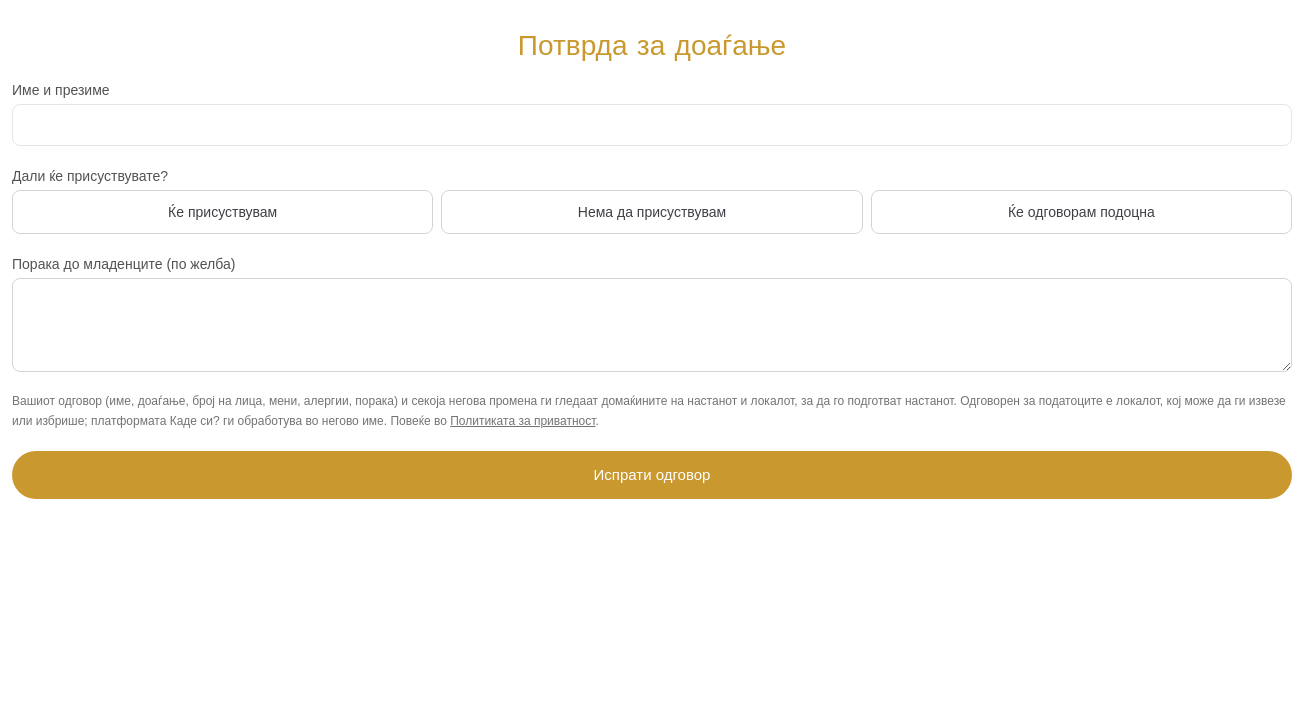
it: RsvpForm (A2-A5, A18) › submits a yes with party size, children, allergies and comment
Type "Мила Милова" into the field labelled "Име и презиме" at point(652, 125), box [12,104,1292,146]
Click the button "Ќе присуствувам" at point(223, 212), box [12,190,433,234]
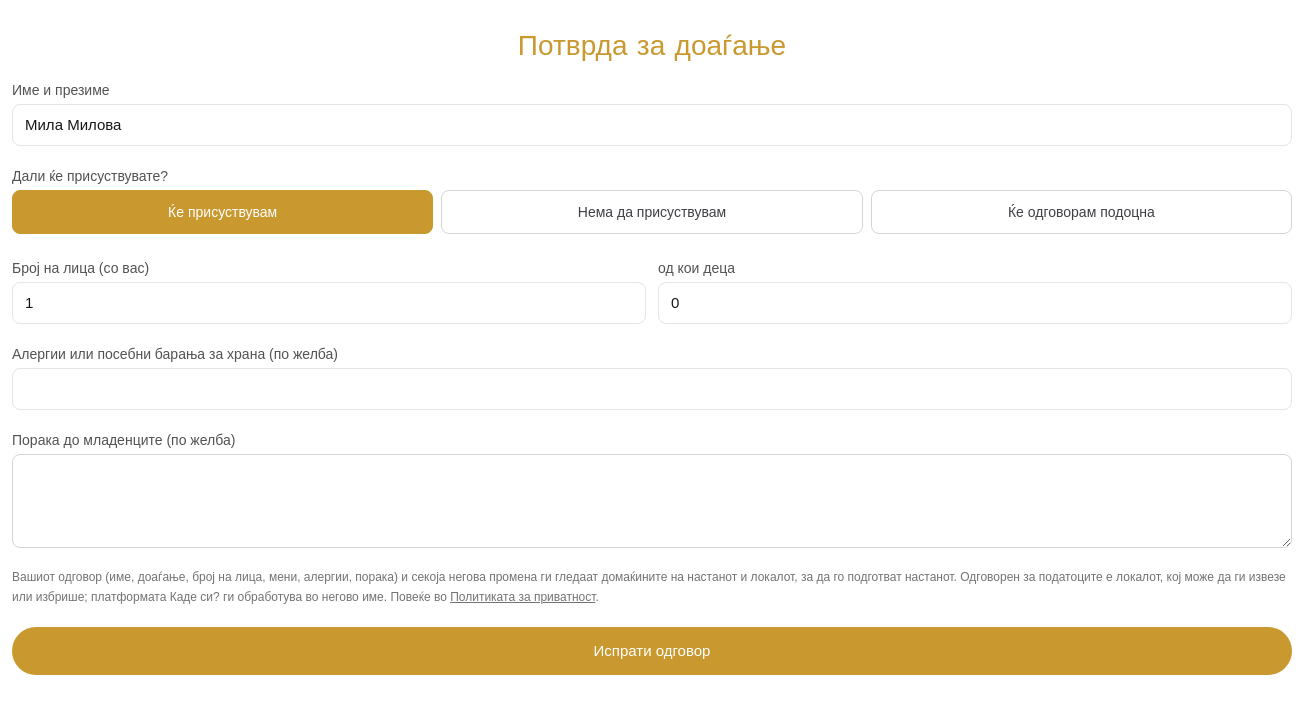
Replace the text in the number field labelled "Број на лица (со вас)" with "3" at point(329, 303), box [12,282,646,324]
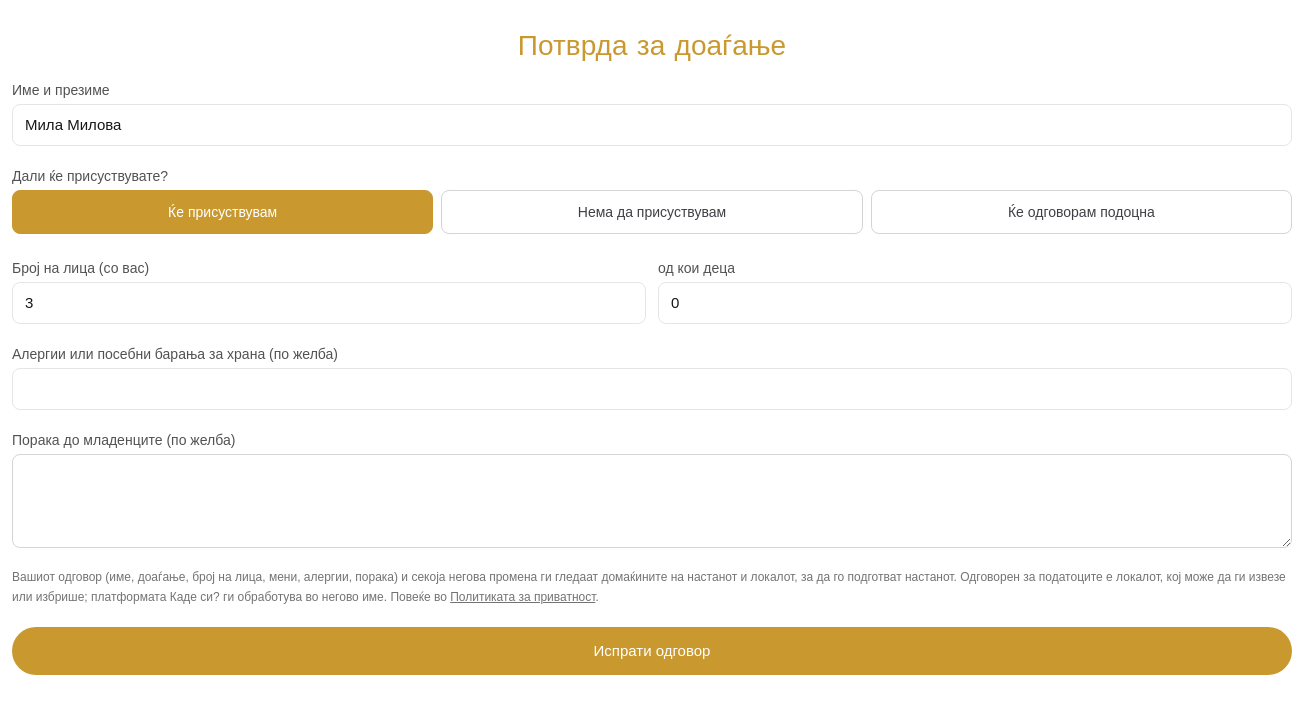
Replace the text in the number field labelled "од кои деца" with "1" at point(975, 303), box [658,282,1292,324]
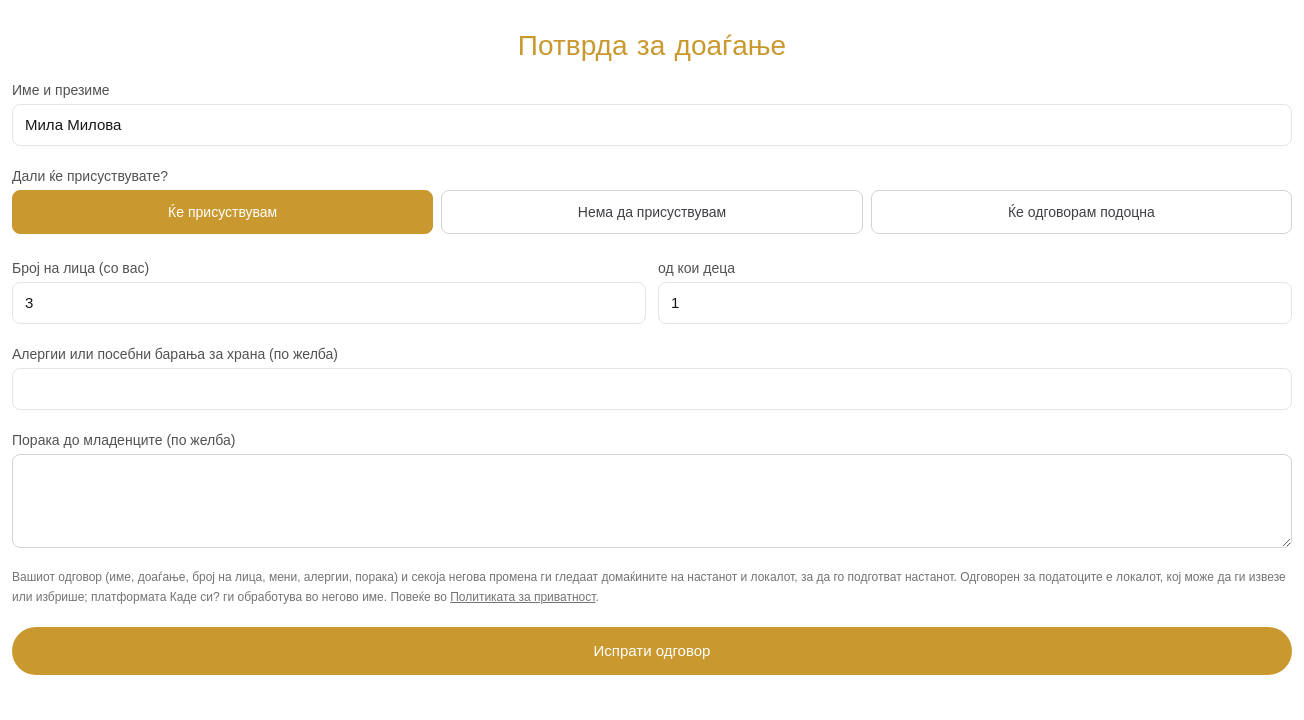
Type "ореви" into the field labelled "Алергии или посебни барања за храна (по желба)" at point(652, 389), box [12,368,1292,410]
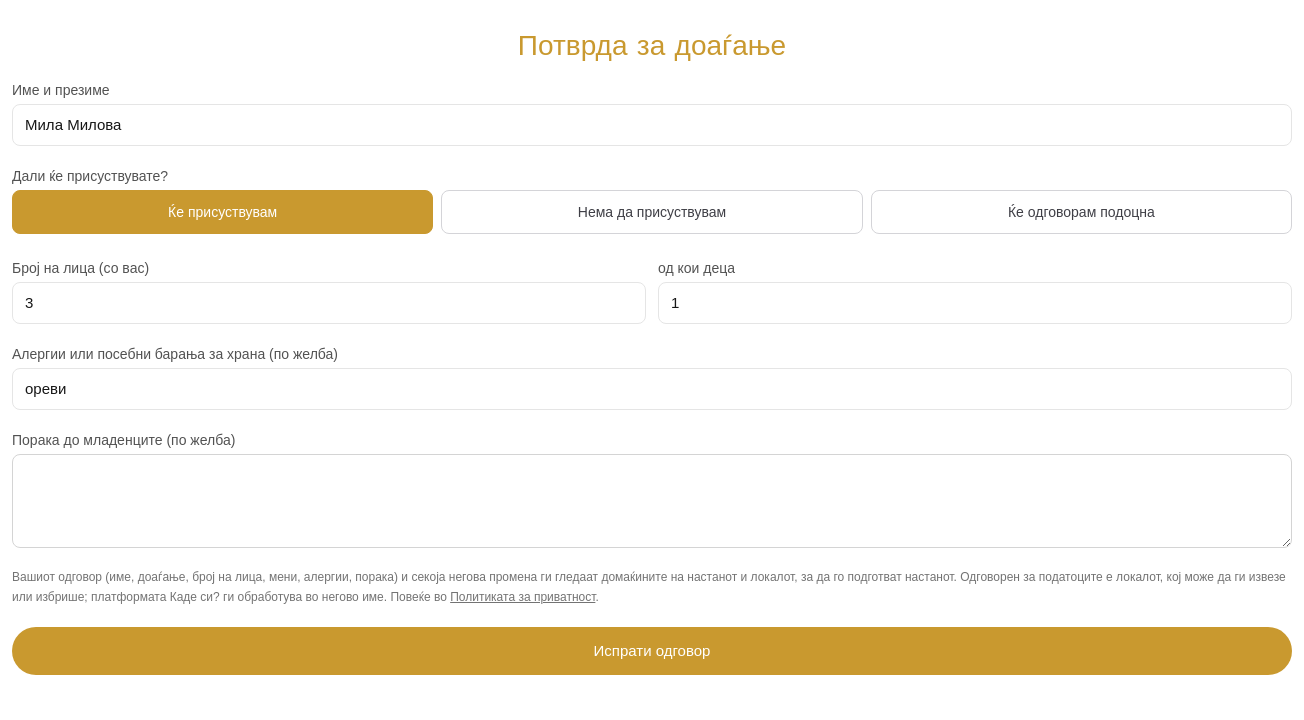
Type "Честито!" into the text box labelled "Порака до младенците (по желба)" at point(652, 501), box [12,454,1292,548]
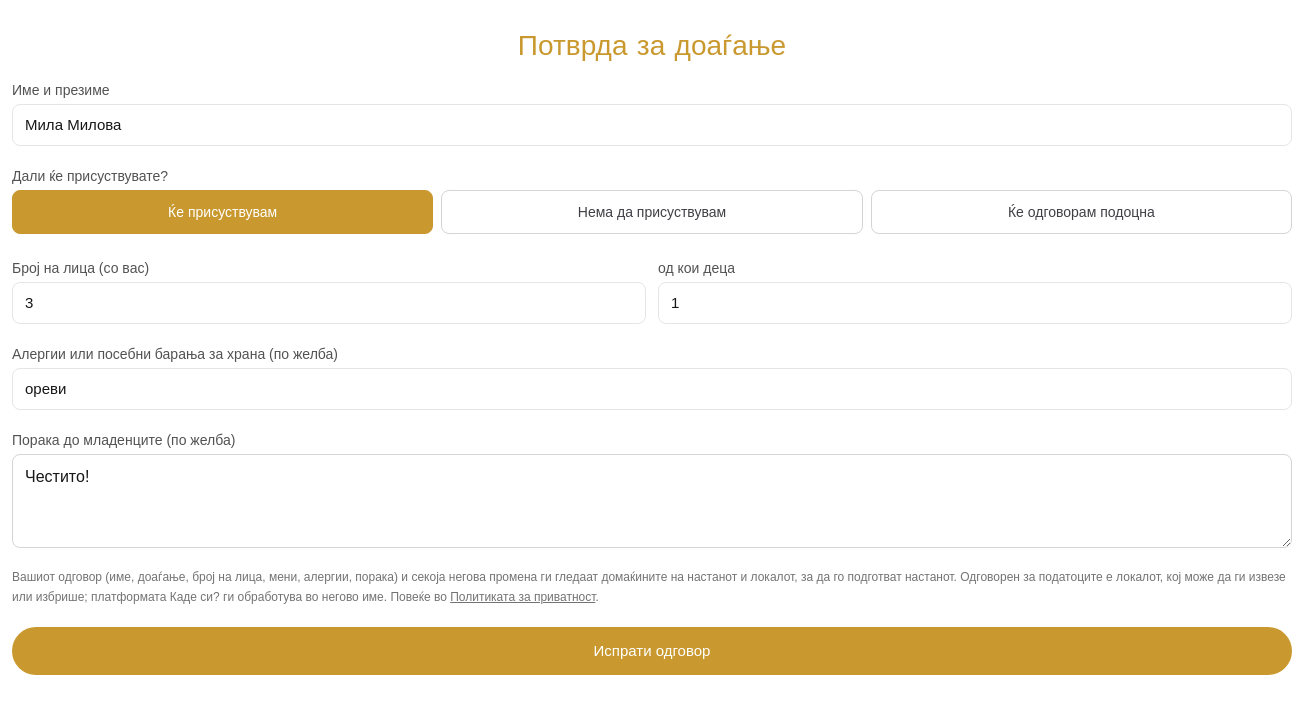
Click the button "Испрати одговор" at point(652, 651), box [12,627,1292,675]
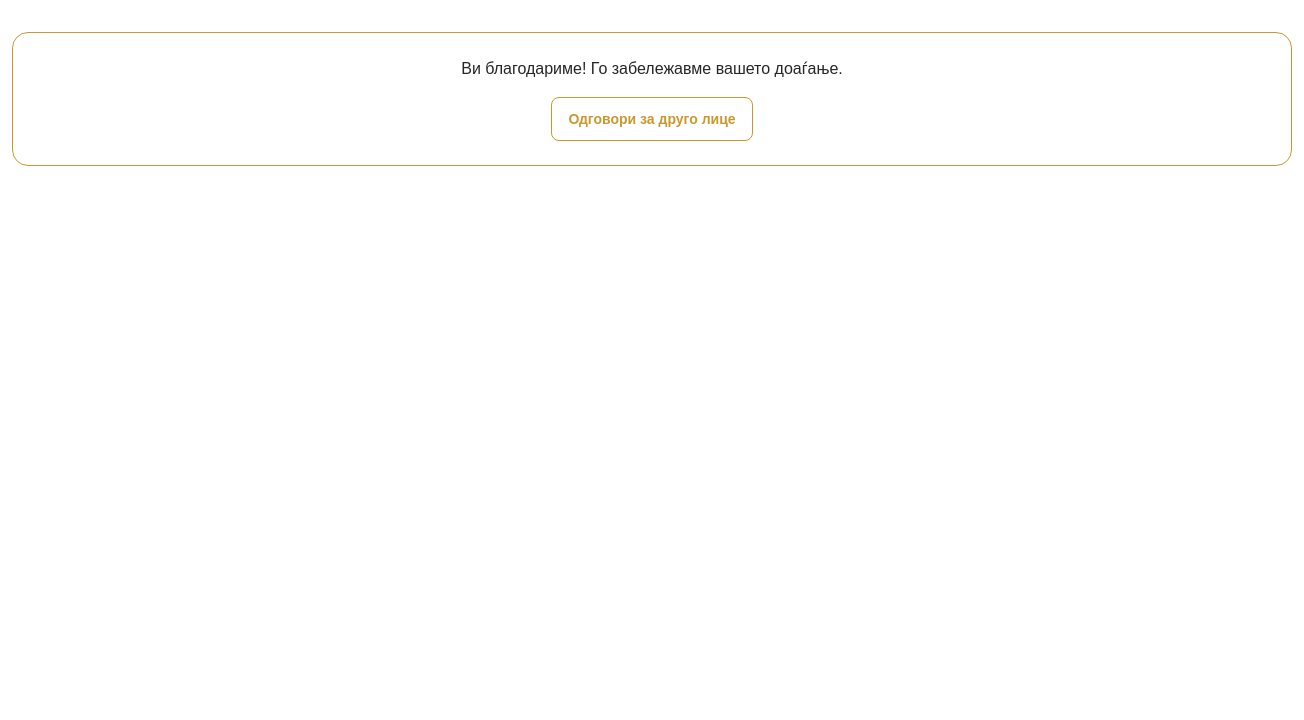
Result: the text "Ви благодариме! Го забележавме вашето доаѓање." is shown at [461,60,843,77]
